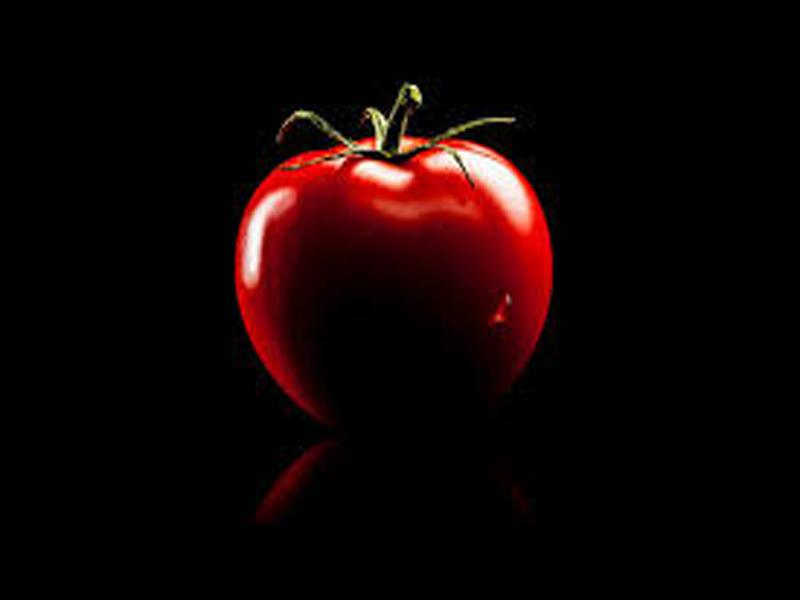Tomato: (236, 128, 553, 416)
